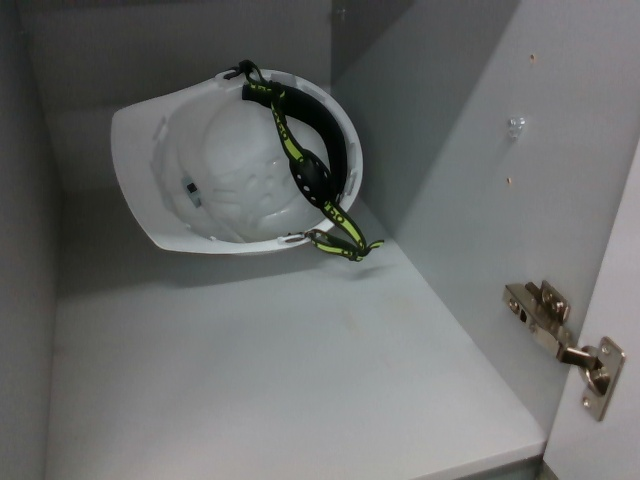helmet: (106, 59, 367, 262)
